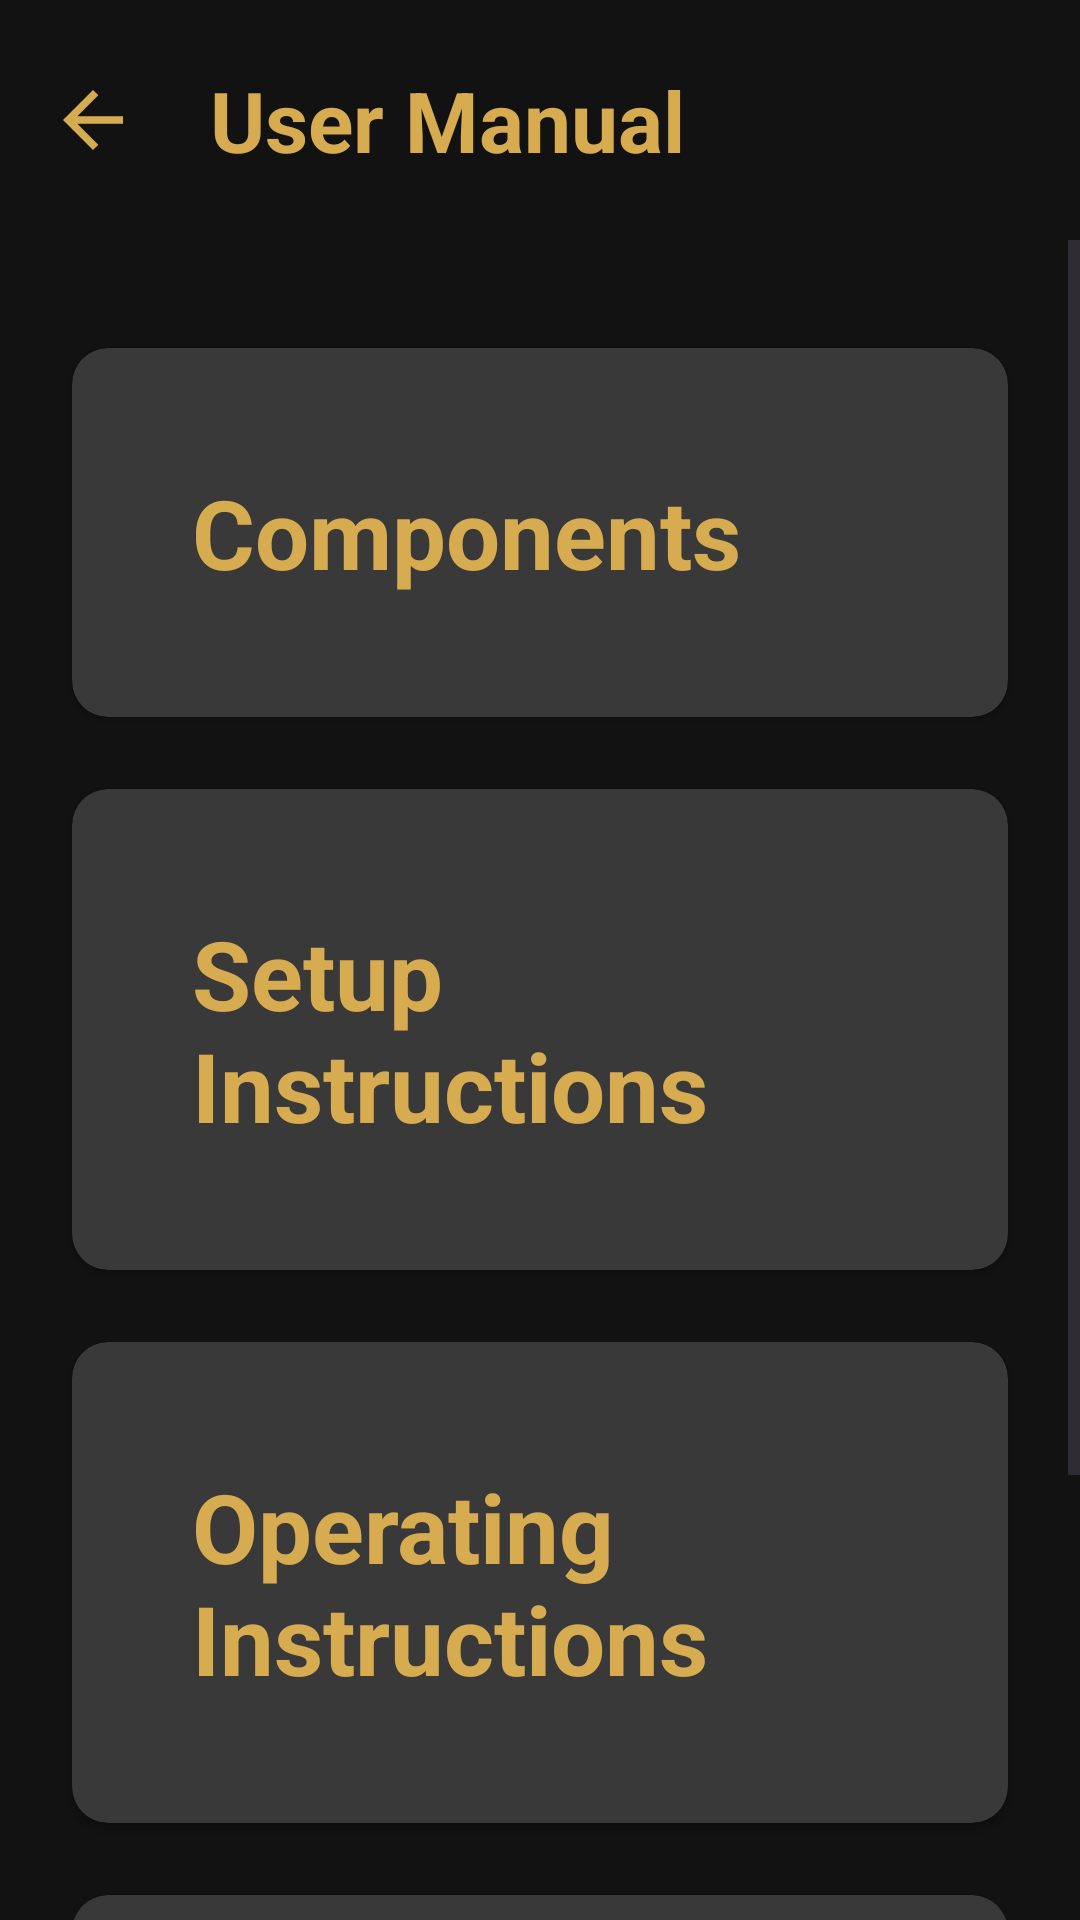

Named icons in this screenshot (1080×1920) and their centers, (x=x, y=y):
arrow back: (x=93, y=120)
